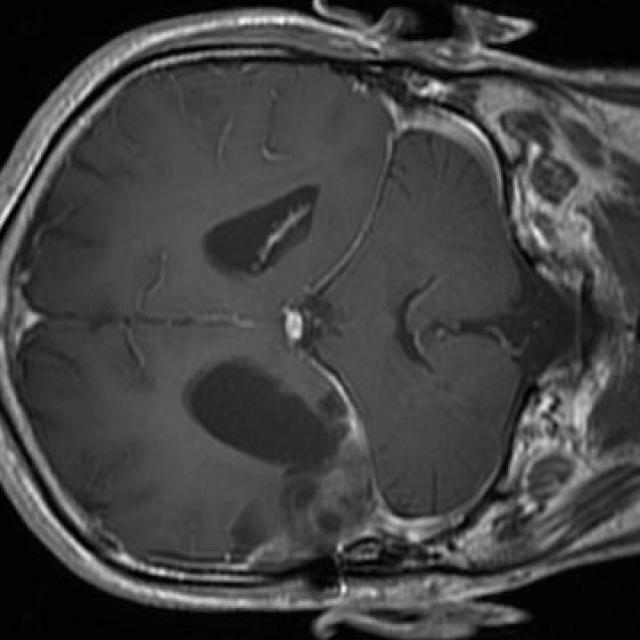glioma: (185, 355, 380, 569)
